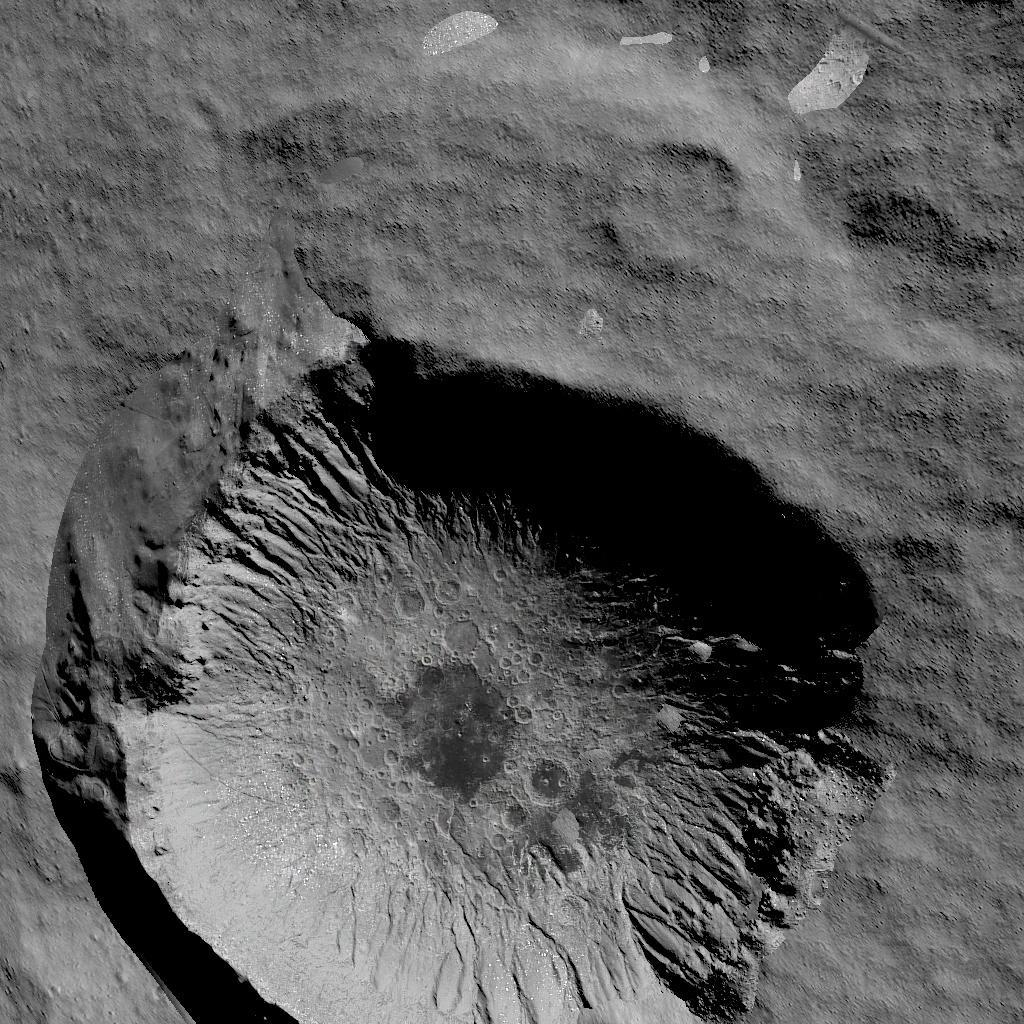Crater: (27, 285, 921, 1024)
Plan surface: (9, 2, 1024, 258)
